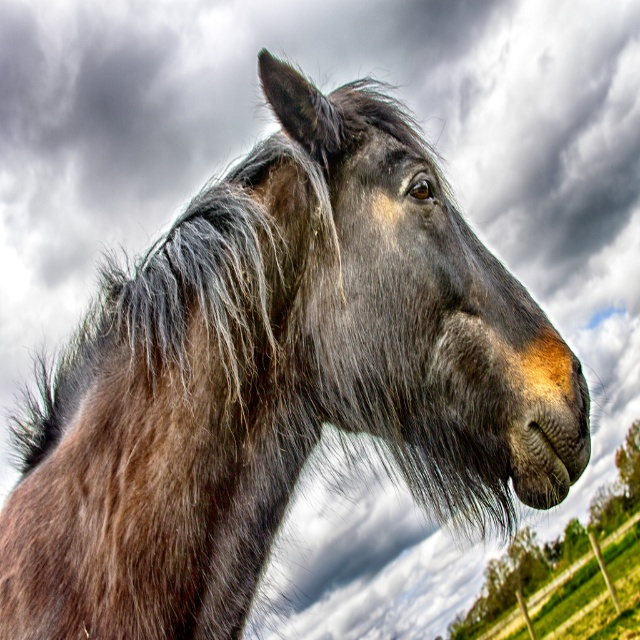Horse: (0, 47, 605, 639)
